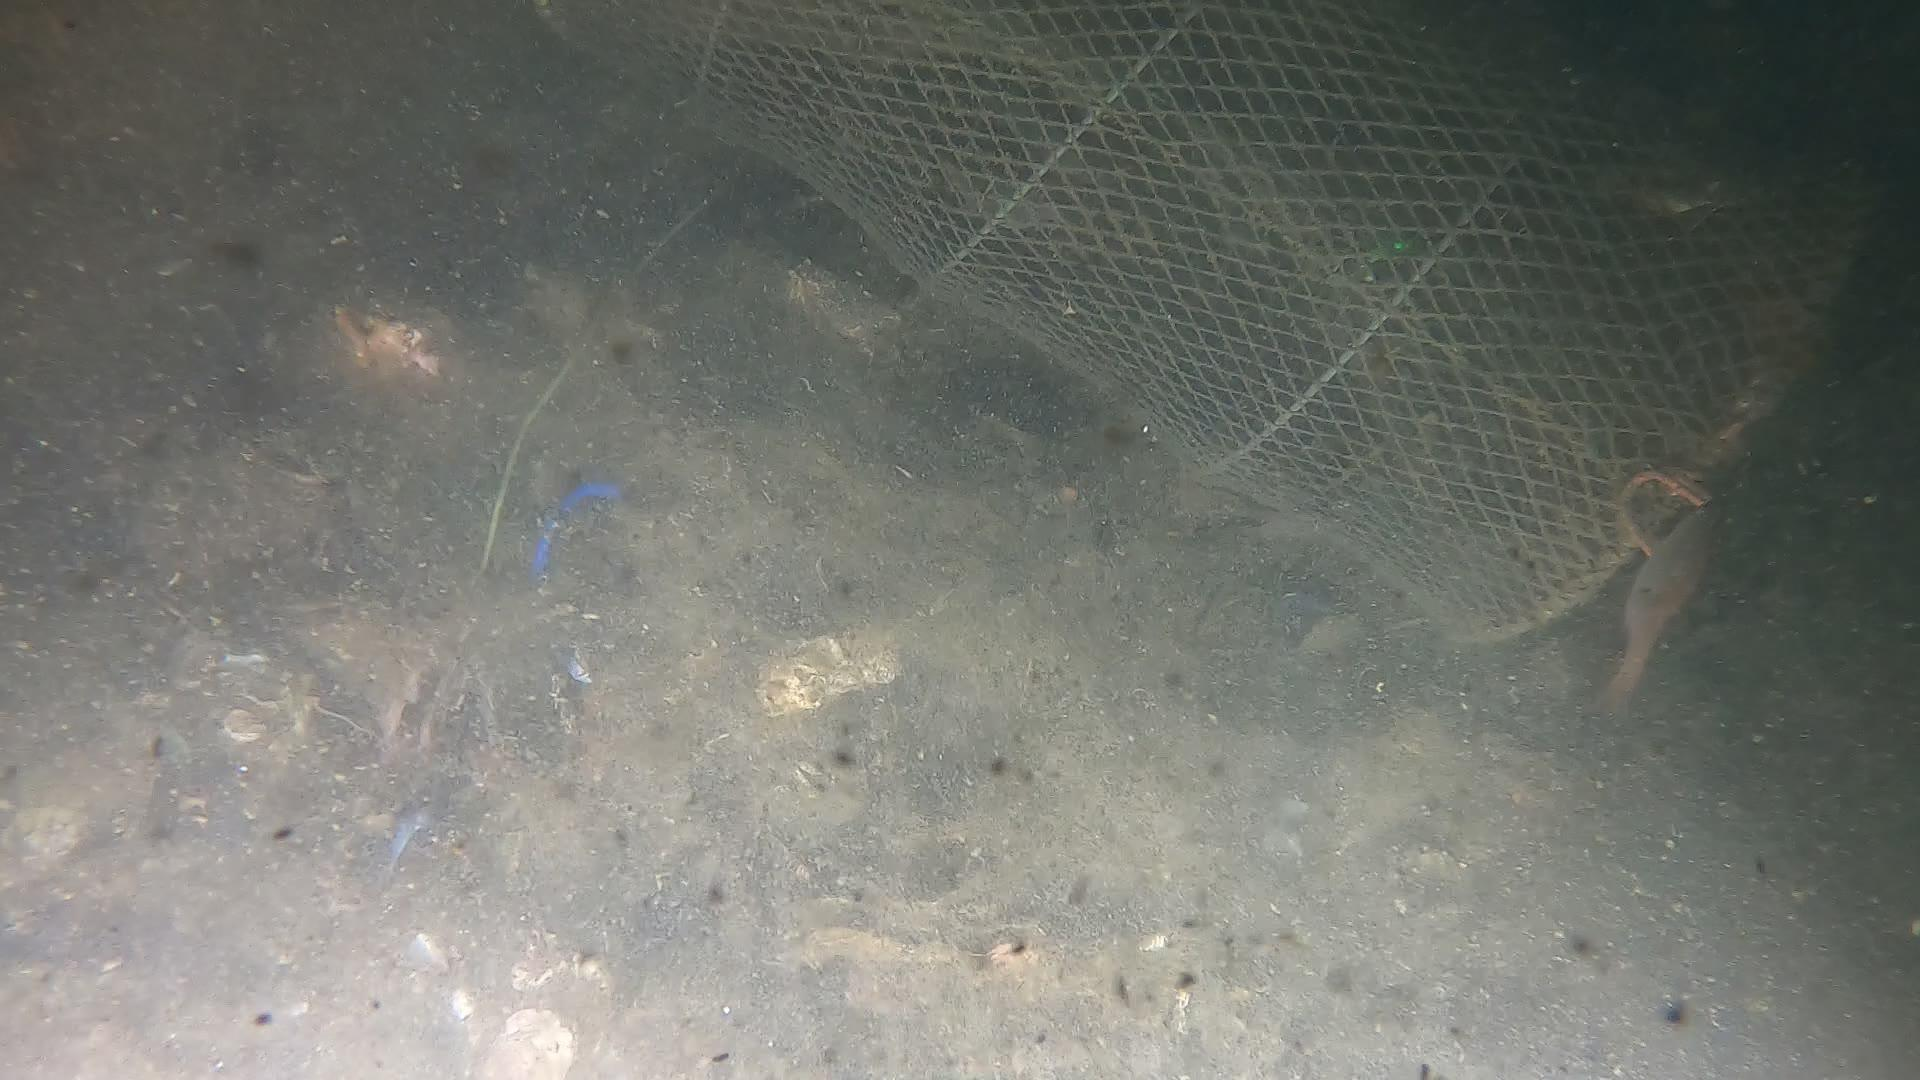spring fish trap: (535, 0, 1869, 644)
